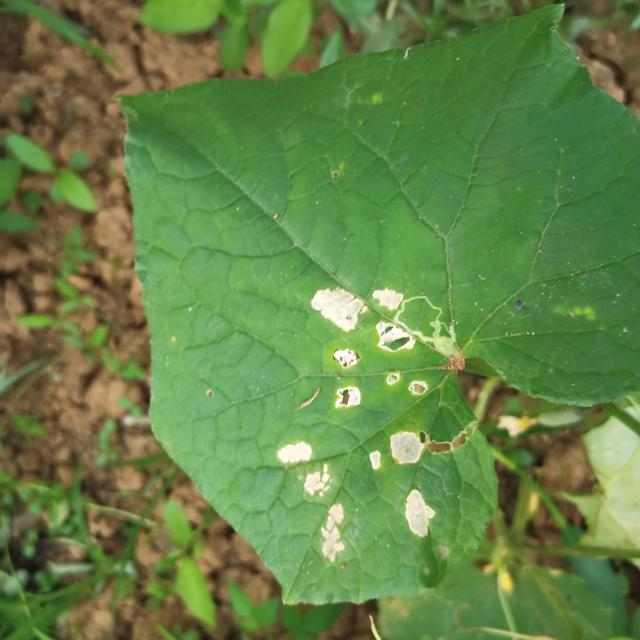disease_cucumber: (312, 288, 412, 410), (279, 442, 344, 562), (370, 432, 436, 537)
